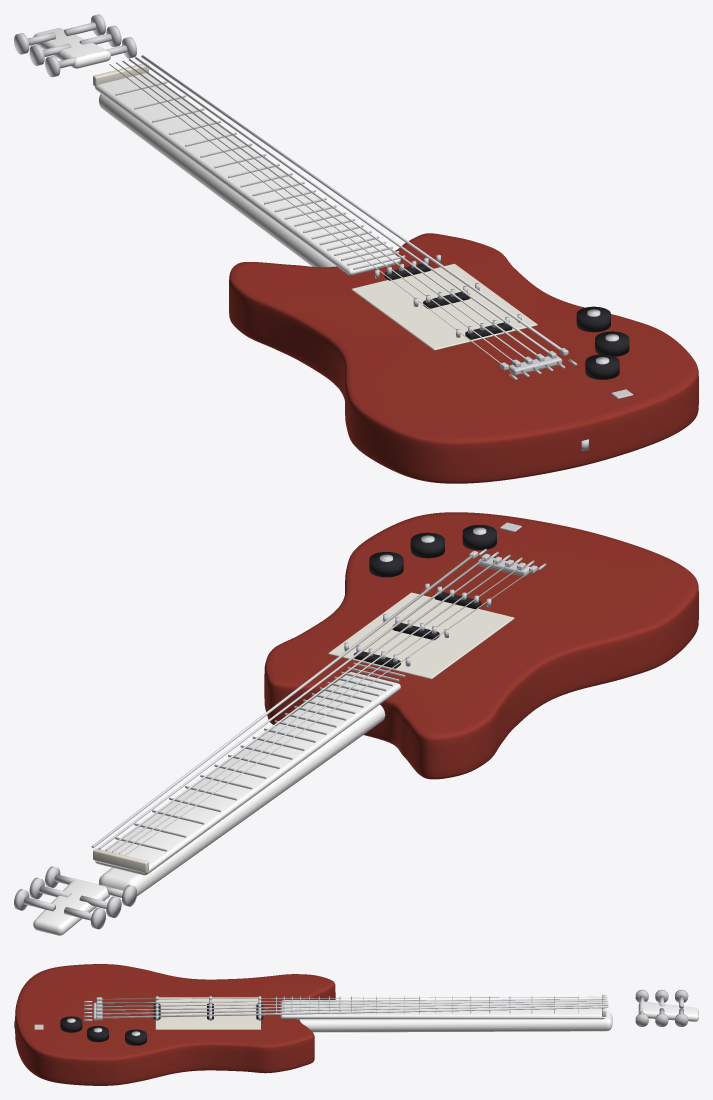
Rendered from exploded_guitar.glb.
3 views of the same model, one above another, from view 1: azimuth 30°, elevation 25°; view 2: azimuth 150°, elevation 25°; view 3: azimuth 270°, elevation 25° (orthographic). The views are drawn at different scales.
Parts seen in each view (by area): view 1: Body, Fretboard, Pickguard, Neck, String5, String4, Headstock, String3, String2, String1, Knob0, Knob2 (+1 smaller); view 2: Body, Fretboard, Pickguard, Neck, Headstock, String5, String4, String3, String2, String1, String0, Knob1 (+3 smaller); view 3: Body, Fretboard, Neck, Pickguard, String5, String4, String3, String2, Headstock, String1, String0, Knob2 (+2 smaller).
Boxes of the visible parts, left/top/right/bottom form: Body: left=229, top=233, right=698, bottom=483; Fretboard: left=95, top=73, right=400, bottom=275; Pickguard: left=351, top=263, right=537, bottom=350; Neck: left=98, top=94, right=336, bottom=267; String5: left=141, top=55, right=560, bottom=349; String4: left=135, top=57, right=548, bottom=352; Headstock: left=33, top=28, right=110, bottom=68; String3: left=128, top=59, right=536, bottom=355; String2: left=122, top=61, right=524, bottom=357; String1: left=116, top=62, right=512, bottom=360; Knob0: left=576, top=306, right=610, bottom=332; Knob2: left=585, top=354, right=619, bottom=379; Body: left=264, top=512, right=698, bottom=779; Fretboard: left=95, top=672, right=400, bottom=875; Pickguard: left=328, top=592, right=514, bottom=679; Neck: left=99, top=704, right=385, bottom=896; Headstock: left=33, top=879, right=110, bottom=935; String5: left=91, top=555, right=472, bottom=848; String4: left=98, top=558, right=484, bottom=849; String3: left=105, top=561, right=495, bottom=850; String2: left=112, top=564, right=507, bottom=852; String1: left=118, top=567, right=519, bottom=853; String0: left=125, top=570, right=531, bottom=855; Knob1: left=410, top=532, right=444, bottom=558; Body: left=15, top=964, right=335, bottom=1085; Fretboard: left=280, top=1000, right=605, bottom=1019; Neck: left=299, top=1011, right=612, bottom=1032; Pickguard: left=155, top=997, right=260, bottom=1029; String5: left=102, top=1006, right=608, bottom=1018; String4: left=102, top=1004, right=608, bottom=1014; String3: left=102, top=1002, right=608, bottom=1010; String2: left=102, top=1000, right=608, bottom=1006; Headstock: left=638, top=1001, right=698, bottom=1021; String1: left=102, top=998, right=607, bottom=1003; String0: left=102, top=996, right=607, bottom=999; Knob2: left=60, top=1016, right=82, bottom=1032.
Size of the model in its own units: 0.3239 by 0.0633 by 0.9743.
